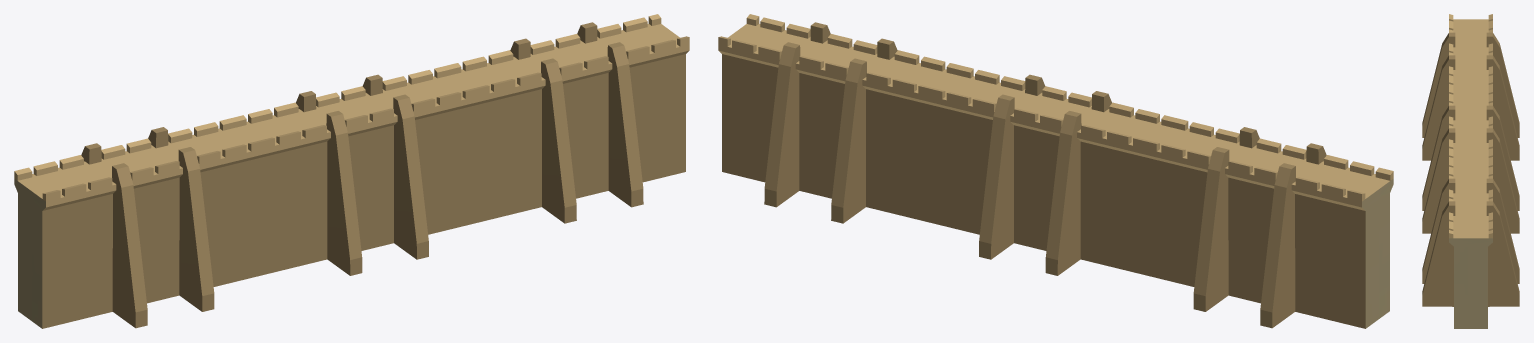
The model's file is portal_base.glb.
3 renders of one model, left to right at view 1: azimuth 30°, elevation 25°; view 2: azimuth 150°, elevation 25°; view 3: azimuth 270°, elevation 25°, orthographic. The views are drawn at different scales.
Parts seen in each view (by area): view 1: portal_base; view 2: portal_base; view 3: portal_base.
Part boxes in pixels (bbox=[...]): portal_base: bbox=[14, 14, 689, 328]; portal_base: bbox=[718, 14, 1393, 328]; portal_base: bbox=[1422, 14, 1519, 328].
Bounding box in the file's own units: 40.15 × 8.65 × 7.55.
1 material, 1 textured.
